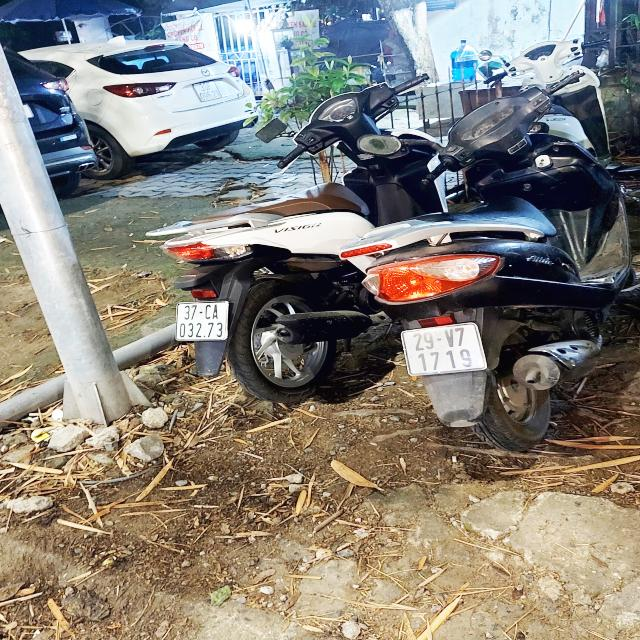license_plate: (402, 322, 492, 378), (172, 300, 235, 343)
